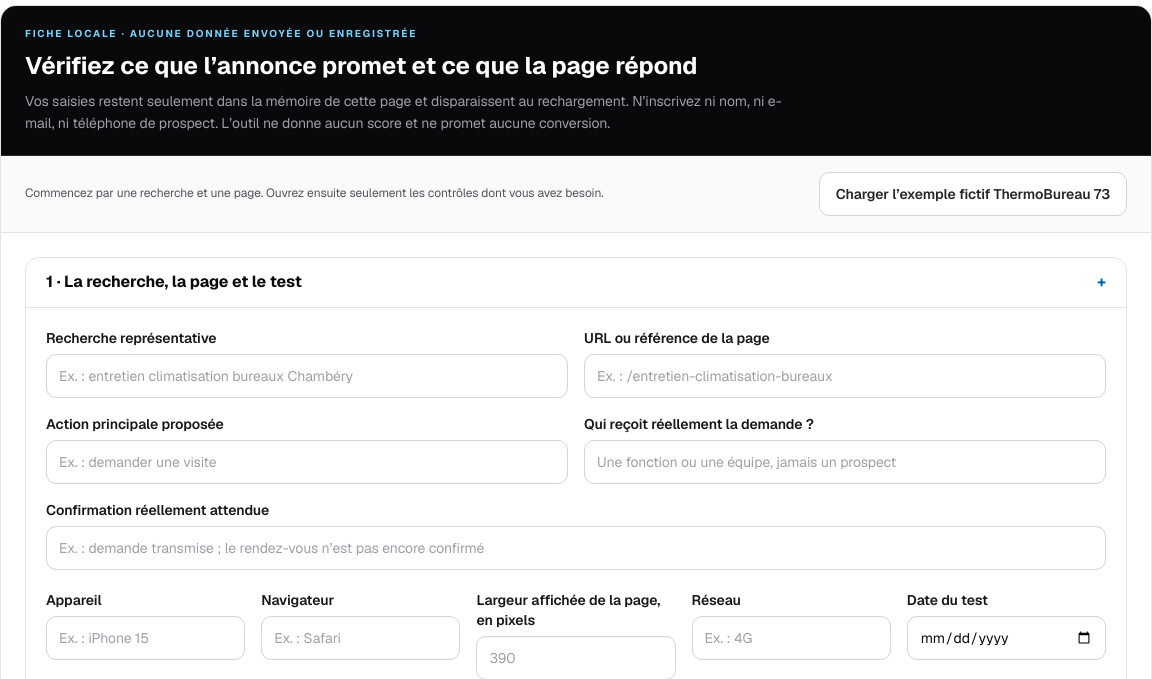
Scenario: LandingPageContinuityWorksheet › shows a complete manual fallback when clipboard access is refused
Click the button "Charger l’exemple fictif ThermoBureau 73": (973, 194) [819,172,1127,216]
(page scrolled)
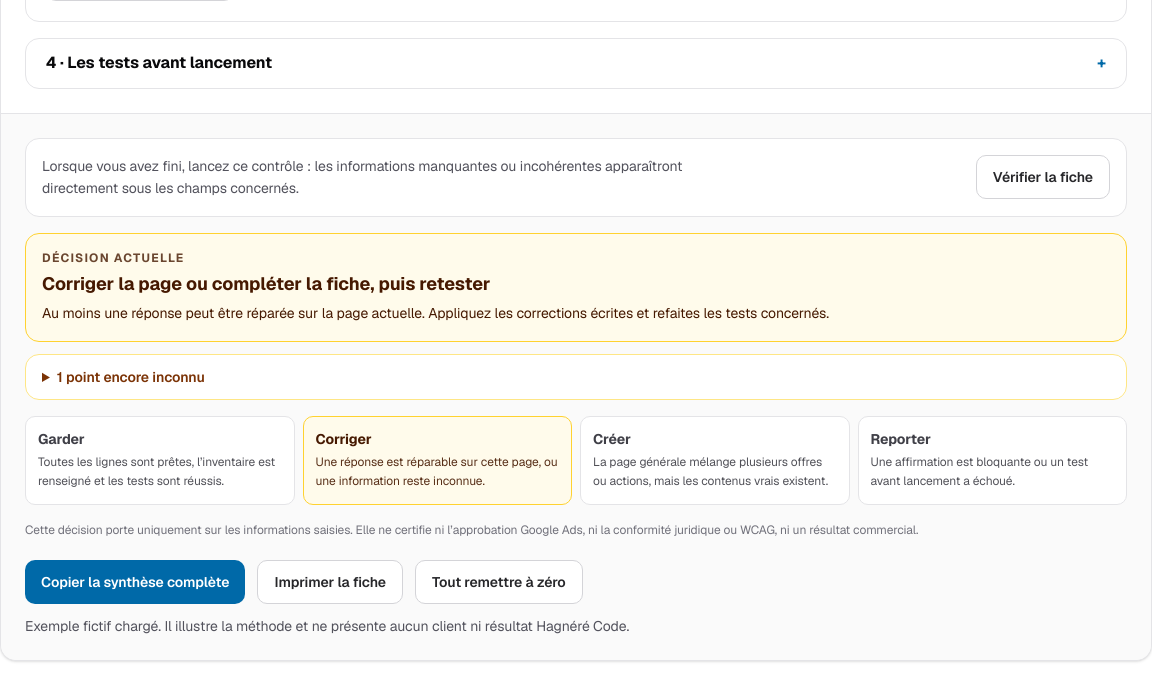
Click the button "Copier la synthèse complète": (135, 582) [25,560,246,604]
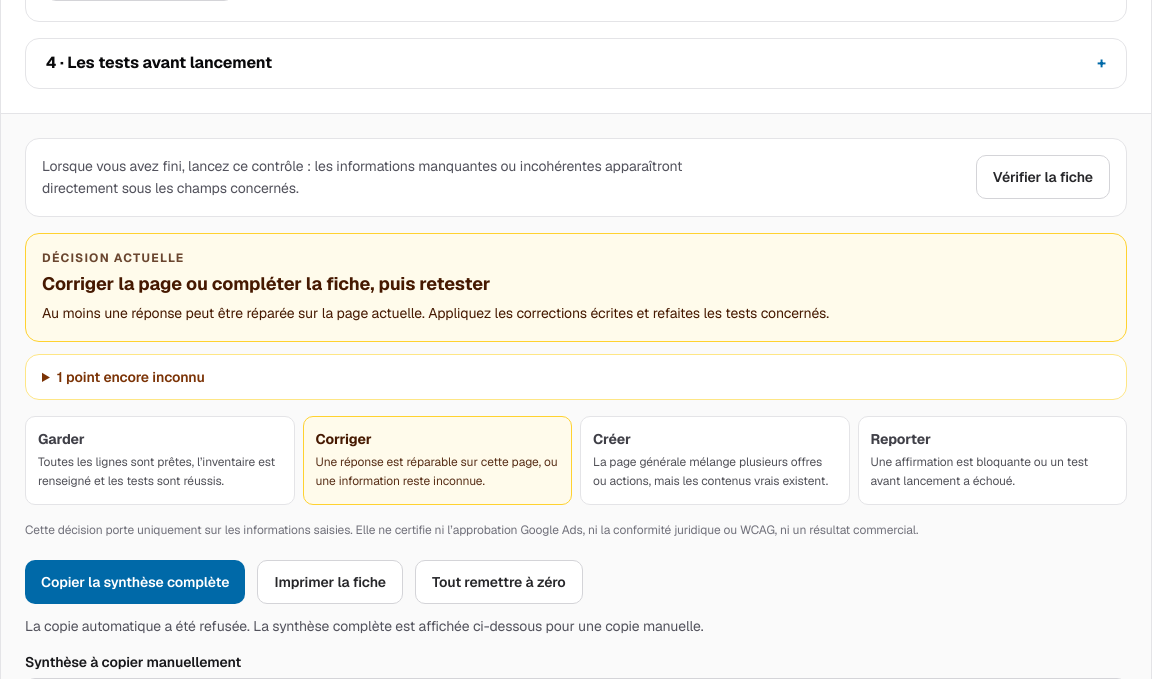
expect the text "La copie automatique a été refusée" is shown: met, box [25,618,704,636]
